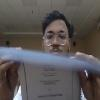notebook: (0, 46, 99, 99)
